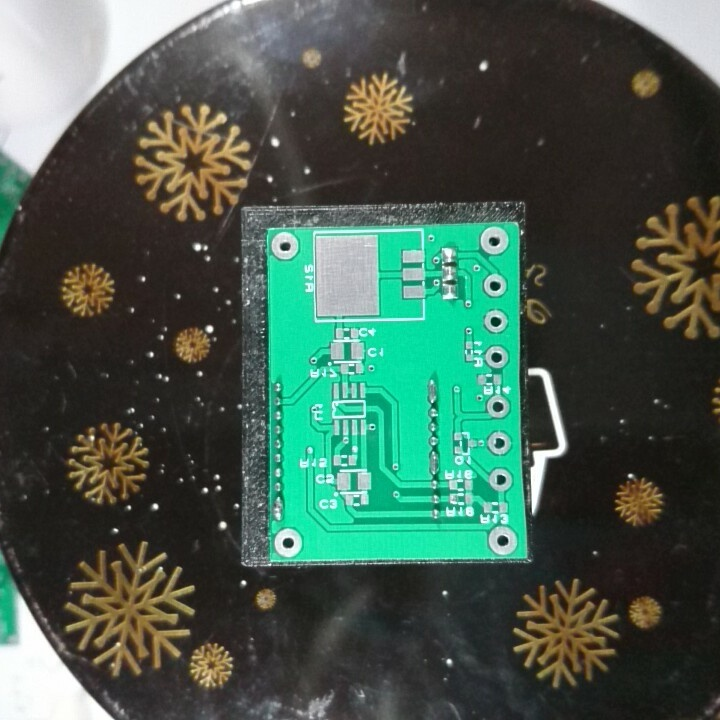F: (486, 523, 519, 556), (268, 230, 301, 262), (478, 226, 510, 259), (274, 526, 306, 558), (485, 429, 514, 458), (482, 309, 511, 336), (482, 343, 512, 369), (485, 393, 513, 420), (487, 466, 515, 493), (482, 272, 510, 298)
P: (426, 448, 444, 476), (425, 374, 440, 406), (271, 494, 286, 523)
